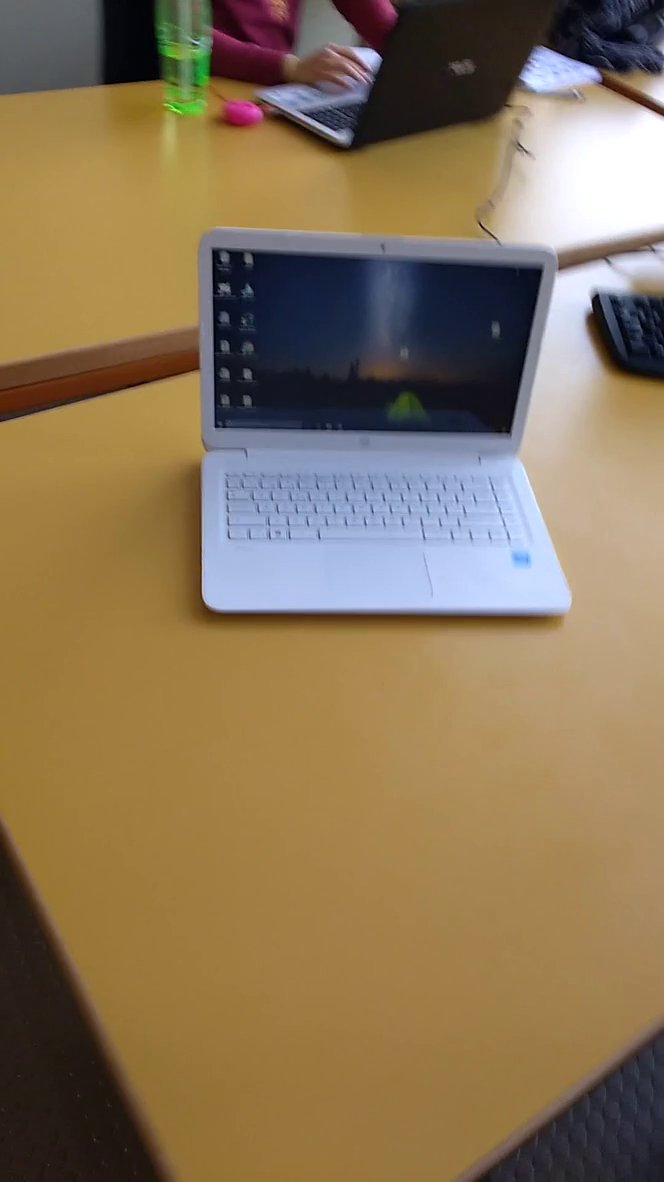laptop: (174, 212, 580, 635)
